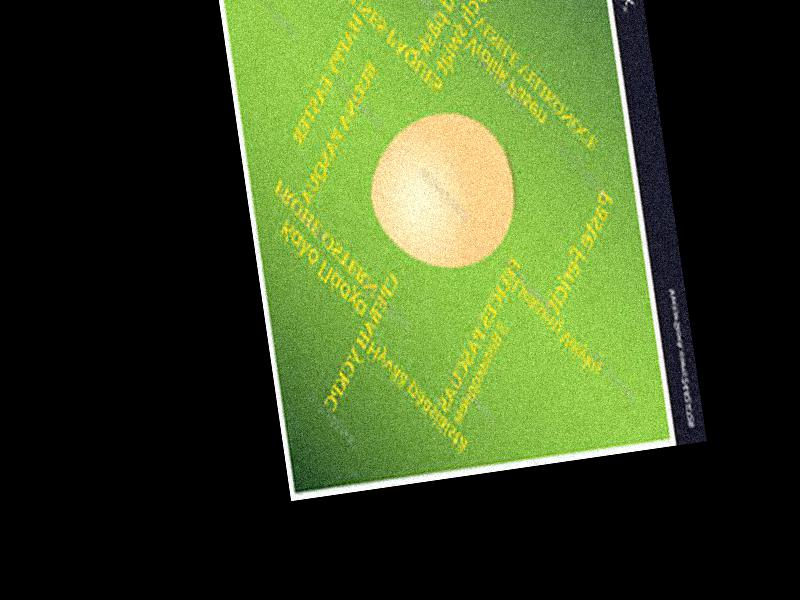Eggs: (364, 107, 522, 278)
